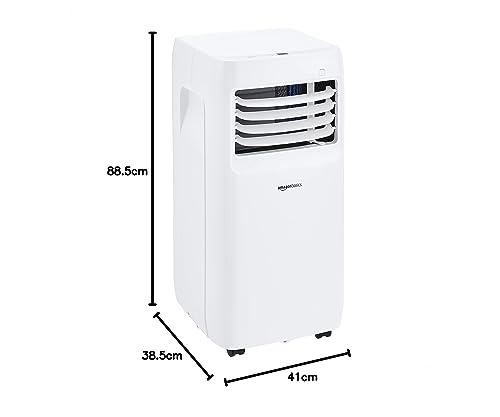Ah: (235, 53, 336, 191)
